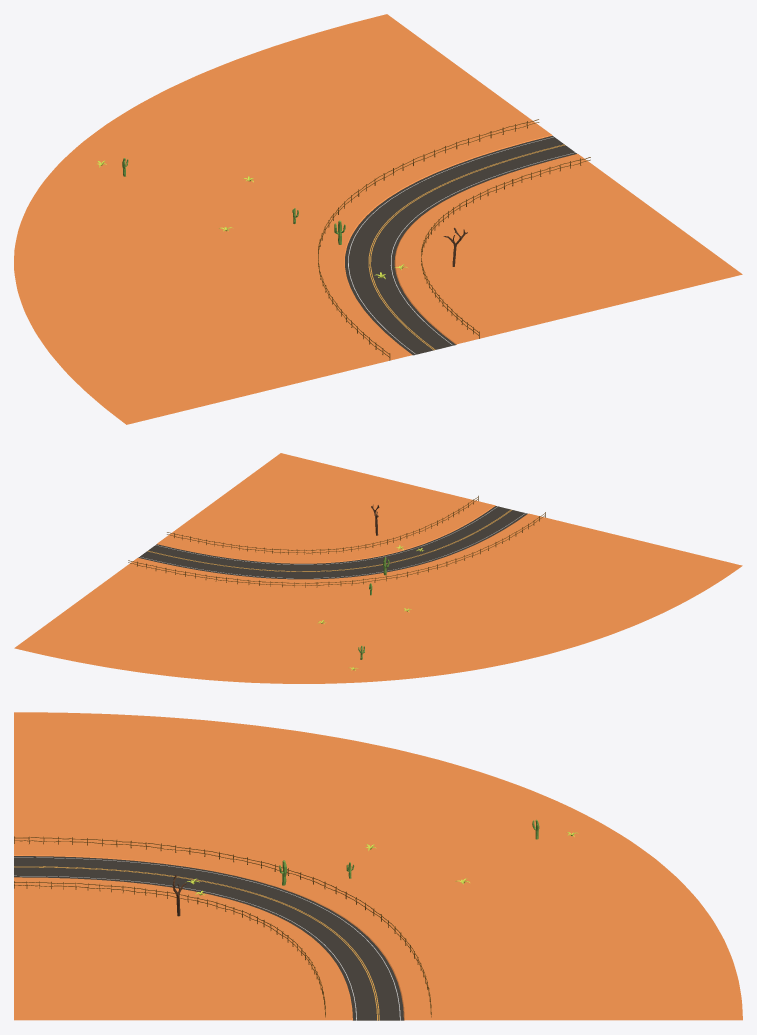
The model's file is DesertRoadLeft3.fbx.
3 views of the same model, one above another, from view 1: azimuth 30°, elevation 25°; view 2: azimuth 150°, elevation 25°; view 3: azimuth 270°, elevation 25° (orthographic). The views are drawn at different scales.
Visible parts, largest first — view 1: DRL3Road, DRL3WoodFenceLeft, DRL3WoodFenceRight.001; view 2: DRL3Road, DRL3WoodFenceLeft, DRL3WoodFenceRight.001; view 3: DRL3Road, DRL3WoodFenceLeft, DRL3WoodFenceRight.001.
Boxes of the visible parts, x1,y1,x2,y2 form: DRL3Road: (14, 14, 742, 424); DRL3WoodFenceLeft: (318, 119, 539, 360); DRL3WoodFenceRight.001: (421, 157, 590, 338); DRL3Road: (14, 453, 742, 683); DRL3WoodFenceLeft: (128, 512, 545, 587); DRL3WoodFenceRight.001: (167, 495, 478, 554); DRL3Road: (14, 712, 742, 1020); DRL3WoodFenceLeft: (14, 836, 431, 1017); DRL3WoodFenceRight.001: (14, 881, 325, 1017).
Size of what is drawn, in the model's own units: 20000 by 1276 by 20000.
